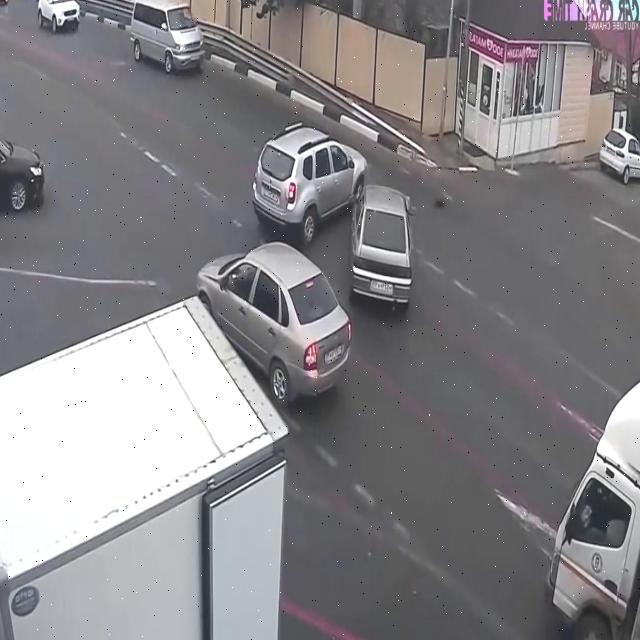accident: (248, 112, 419, 328)
